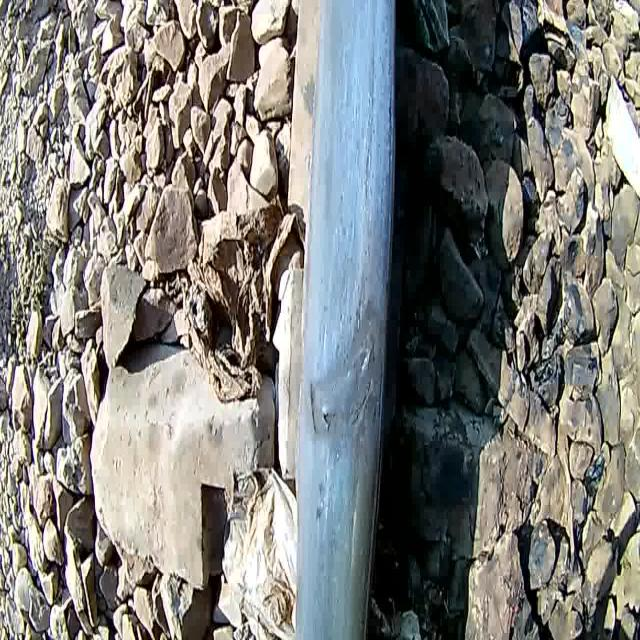Squats: (286, 286, 403, 461)
